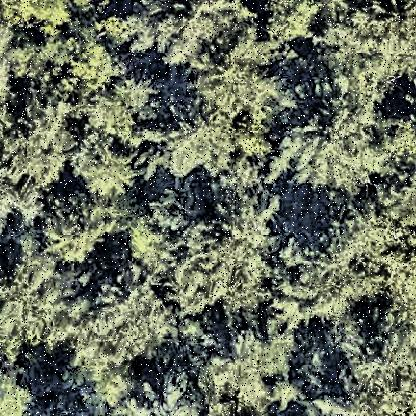tree-top: (169, 191, 285, 313), (280, 111, 384, 201), (75, 276, 175, 367), (196, 331, 304, 412), (327, 2, 416, 83), (283, 244, 377, 320), (2, 264, 79, 352), (197, 30, 278, 111), (152, 100, 236, 176), (12, 100, 80, 188), (43, 190, 124, 262), (133, 1, 217, 68), (307, 196, 376, 266), (303, 75, 376, 140), (74, 142, 139, 202), (62, 46, 124, 105), (260, 1, 320, 43), (2, 3, 74, 37), (117, 74, 160, 122)
